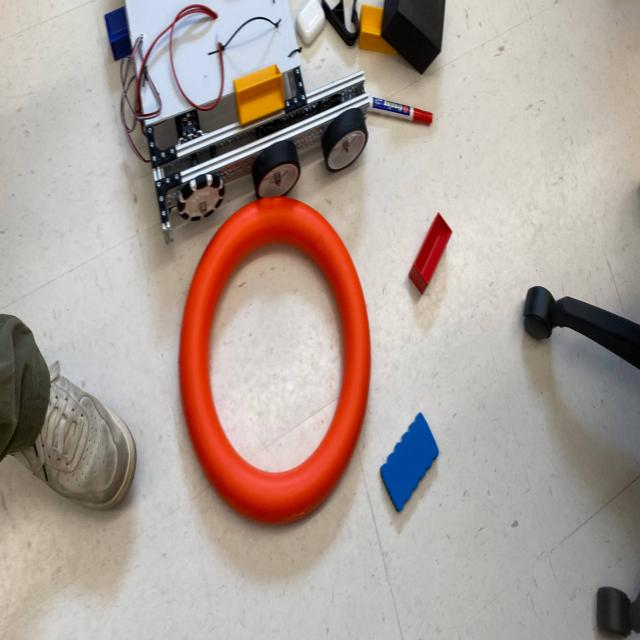blue-specimen: (104, 7, 131, 60)
red-specimen: (409, 213, 452, 294)
yellow-specimen: (233, 65, 285, 125), (358, 5, 398, 55)
